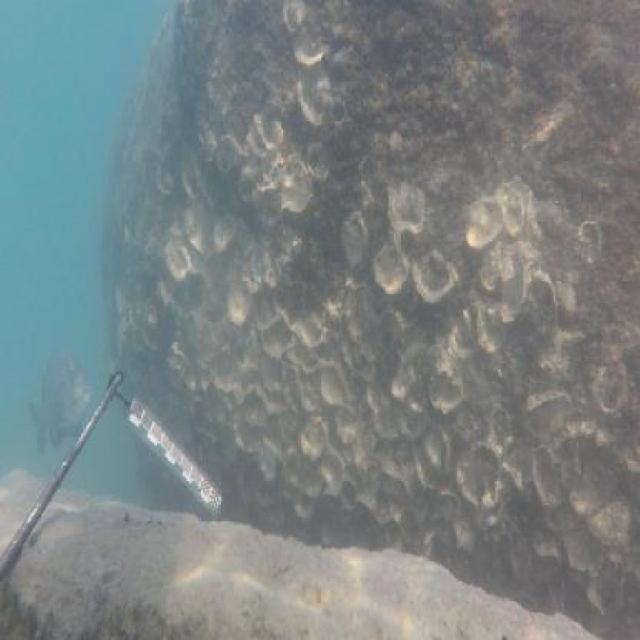acanthopagrus_palmaris: (28, 348, 92, 448)
